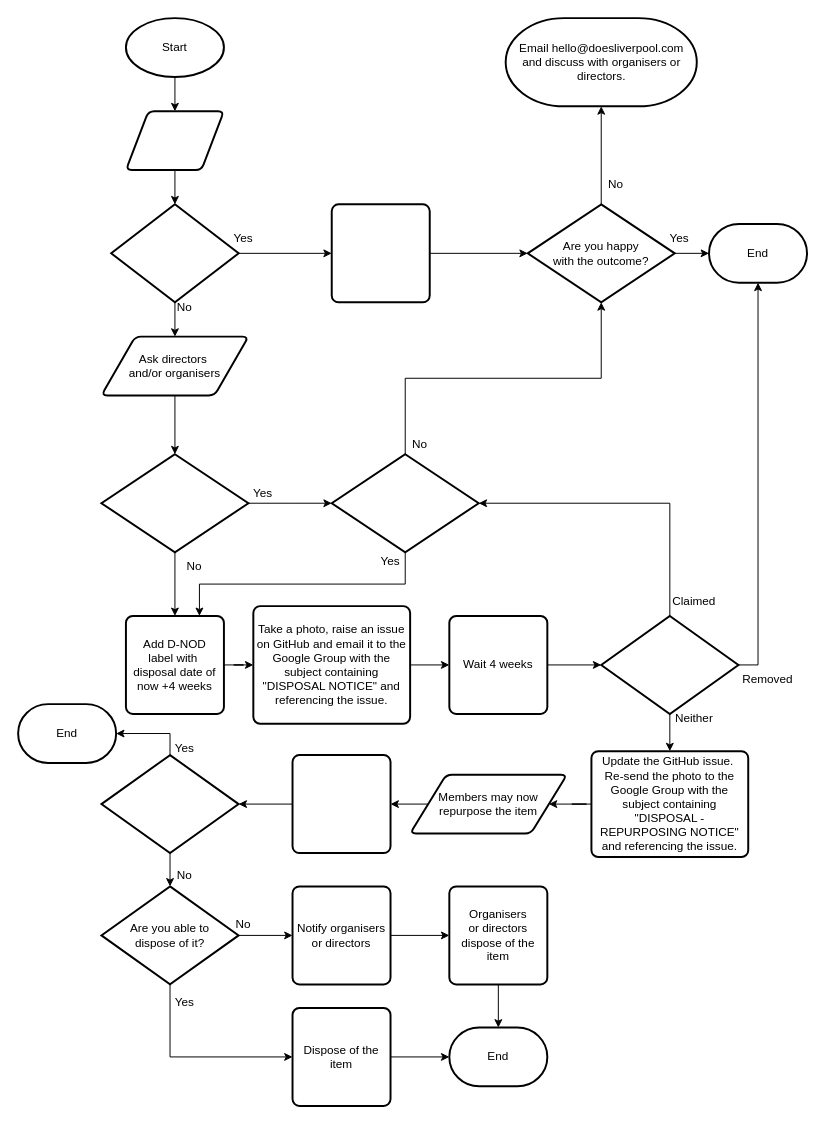
Image size: 824x1123. Some labels were removed from this diagram. The shapes that lost their labels are listed below. From the top down, each one's centre as x and y in pixels, then its label:
pixel 174 140: Find item
pixel 174 253: Do you know who it belongs to?
pixel 380 253: Speak to owner
pixel 174 503: Do they know who it belongs to?
pixel 404 503: Do they agree it should be removed?
pixel 669 664: Has the item been...
pixel 169 804: Has the item been removed?
pixel 341 804: Wait 1 week
